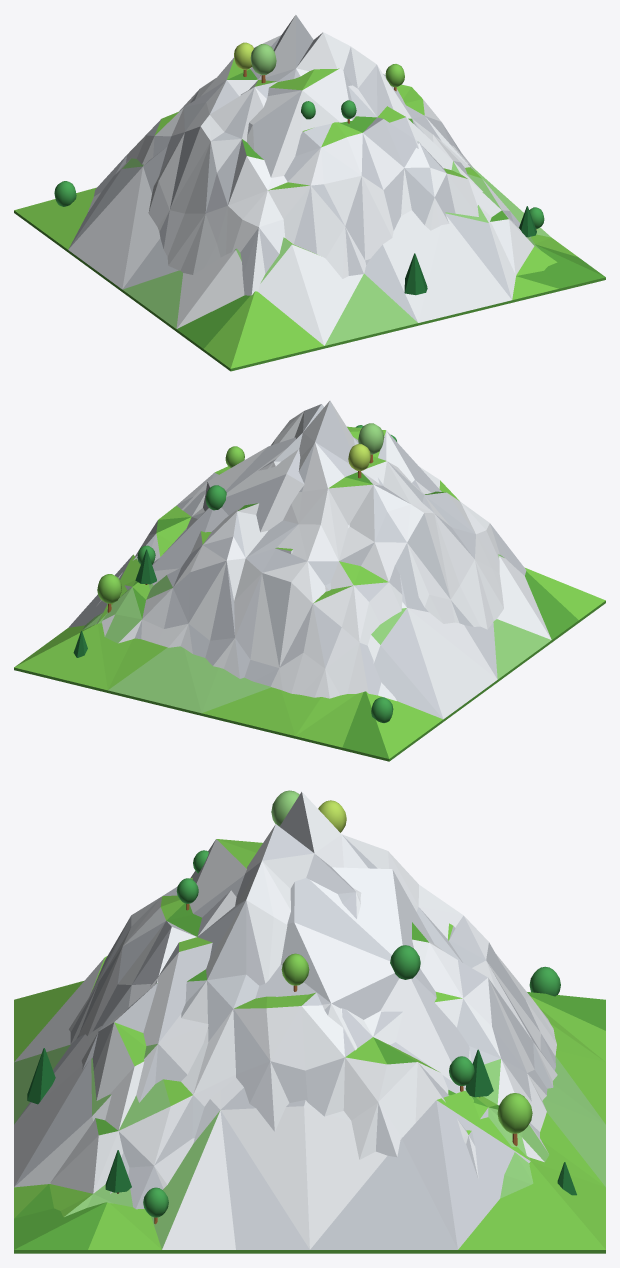
Rendered from montanha_media.glb.
3 renders of one model, top to bottom at view 1: azimuth 30°, elevation 25°; view 2: azimuth 150°, elevation 25°; view 3: azimuth 270°, elevation 25°, orthographic. The views are drawn at different scales.
Parts seen in each view (by area): view 1: montanha_media, colisao_montanha; view 2: montanha_media, colisao_montanha; view 3: colisao_montanha, montanha_media.
Part boxes in pixels (<box>): montanha_media: <box>16,15,605,371</box>; colisao_montanha: <box>14,68,605,371</box>; montanha_media: <box>16,400,605,761</box>; colisao_montanha: <box>14,426,605,761</box>; colisao_montanha: <box>14,839,605,1253</box>; montanha_media: <box>14,790,605,1253</box>.
Bounding box in the file's own units: 45 × 27.31 × 45.
1 material, 1 textured.
